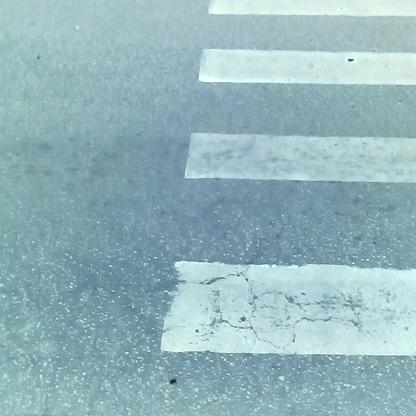crosswalk: (147, 5, 416, 379)
